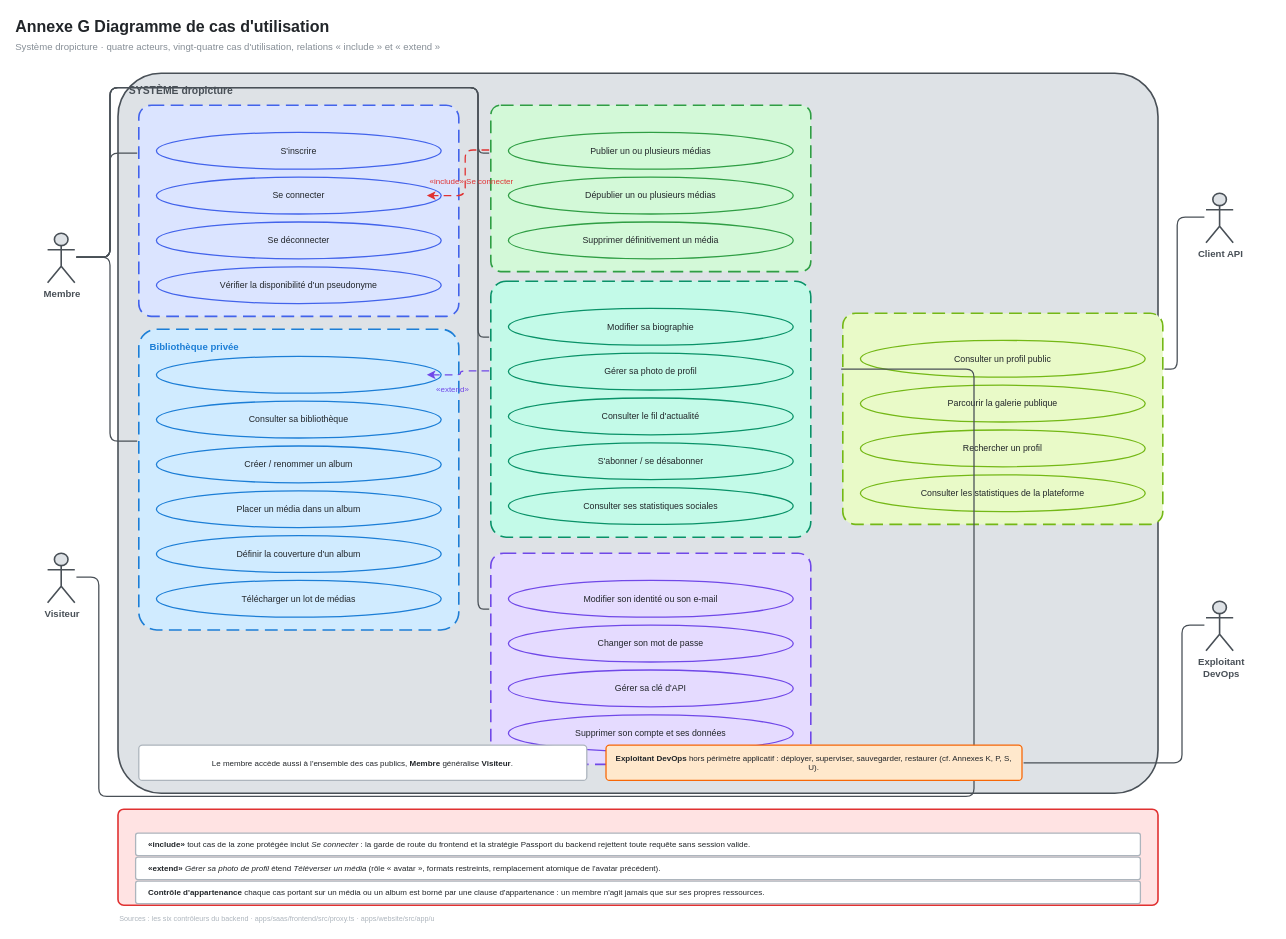
Some shapes in this 1286 by 939 pixel diagram are drawn without their labels. The box of each missing label's shape, as (x1, y1, x2, y2) in pixels:
Accès public: (842, 312, 1163, 525)
Compte & sécurité: (490, 552, 811, 765)
Identité & session: (138, 104, 459, 317)
Profil & réseau: (490, 280, 811, 538)
Publication: (490, 104, 811, 272)
RELATIONS ET RÈGLES D'ACCÈS: (117, 808, 1158, 906)
Téléverser un média: (155, 355, 441, 393)
